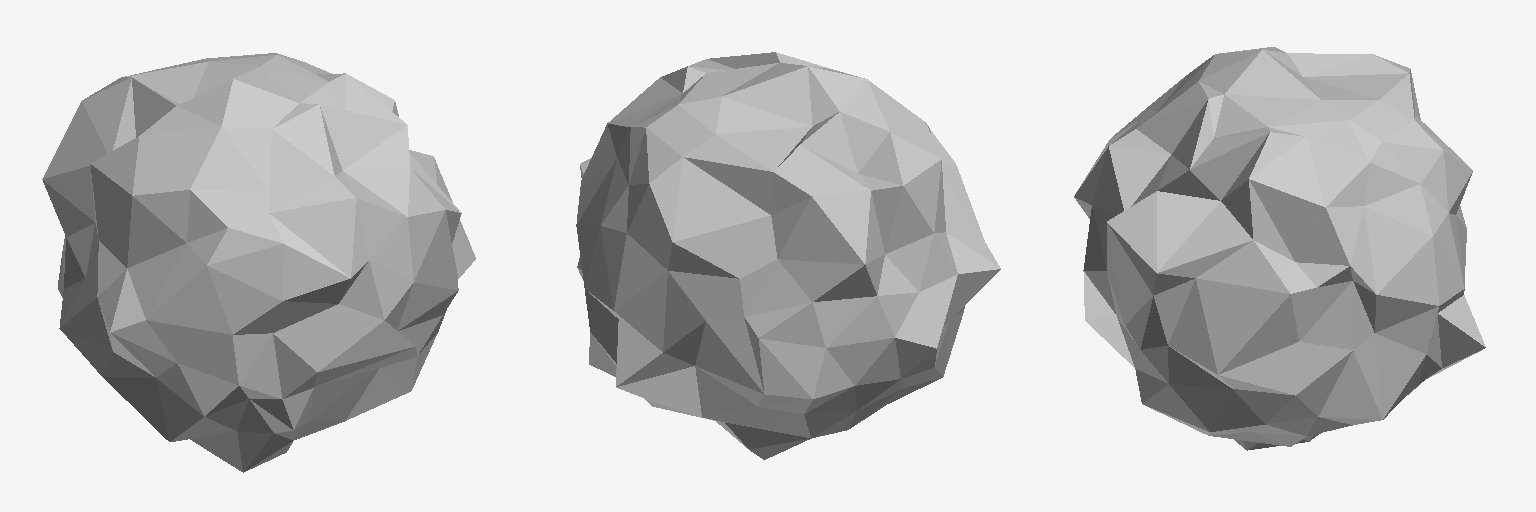
The model's file is fire_000035.obj.
3 renders of one model, left to right at view 1: azimuth 30°, elevation 25°; view 2: azimuth 150°, elevation 25°; view 3: azimuth 270°, elevation 25°, orthographic.
Visible parts, largest first — view 1: Icosphere; view 2: Icosphere; view 3: Icosphere.
Part boxes in pixels (x1,y1,x2,y2): Icosphere: (42, 53, 475, 472); Icosphere: (576, 52, 1000, 459); Icosphere: (1074, 47, 1485, 450).
Size of the model in its own units: 1.21 by 1.17 by 1.14.